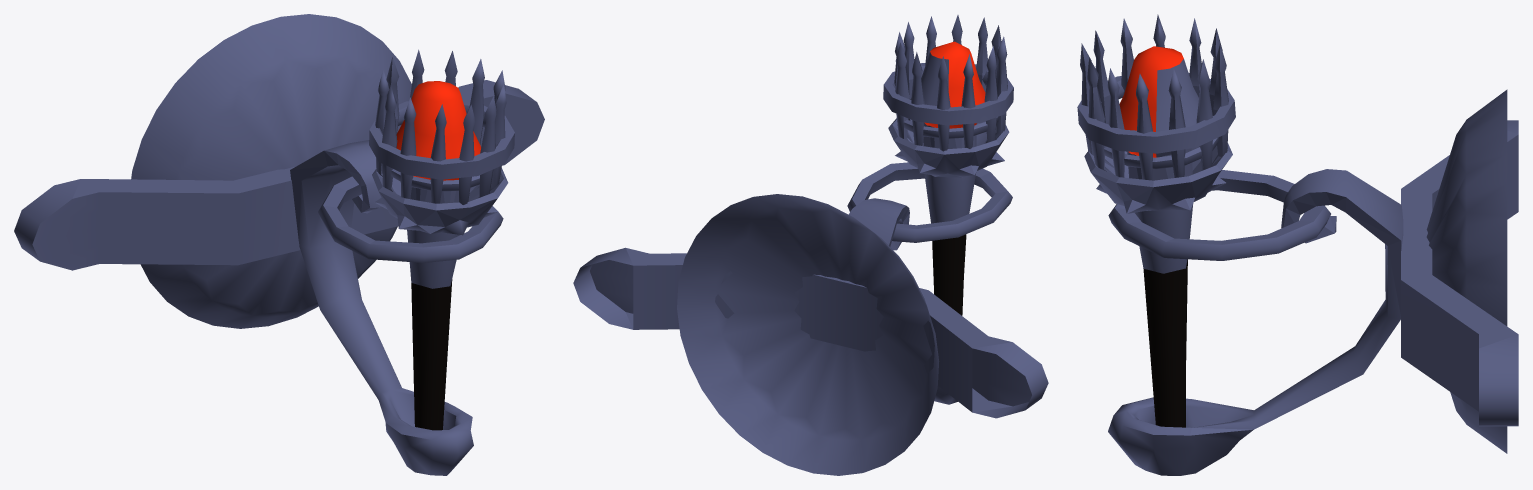
The model's file is TorchWall_1.fbx.
The picture shows the model from 3 angles, left to right: view 1: azimuth 30°, elevation 25°; view 2: azimuth 150°, elevation 25°; view 3: azimuth 270°, elevation 25°; orthographic projection. The views are drawn at different scales.
Visible parts, largest first — view 1: TorchWall_1; view 2: TorchWall_1; view 3: TorchWall_1.
Part boxes in pixels (x1=…): TorchWall_1: x1=14, y1=14, x2=544, y2=475; TorchWall_1: x1=573, y1=15, x2=1048, y2=475; TorchWall_1: x1=1077, y1=14, x2=1518, y2=475.
Bounding box in the file's own units: 49.13 × 33.85 × 36.43.
